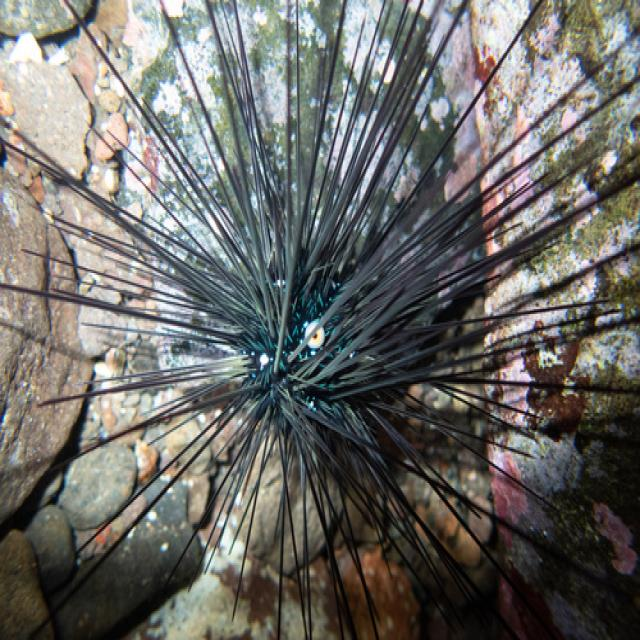Urchin: (2, 2, 635, 635)
